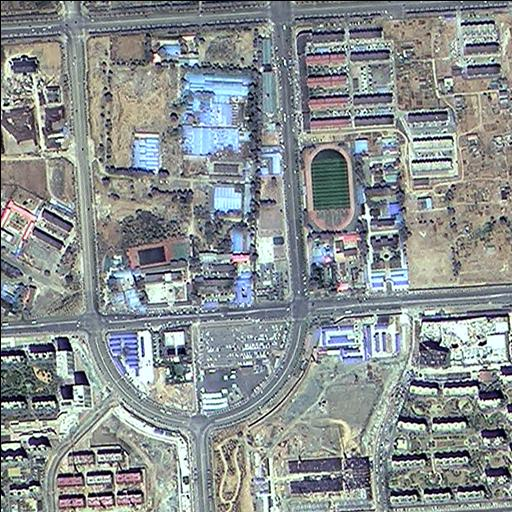school: (298, 138, 410, 290), (122, 235, 192, 309)
